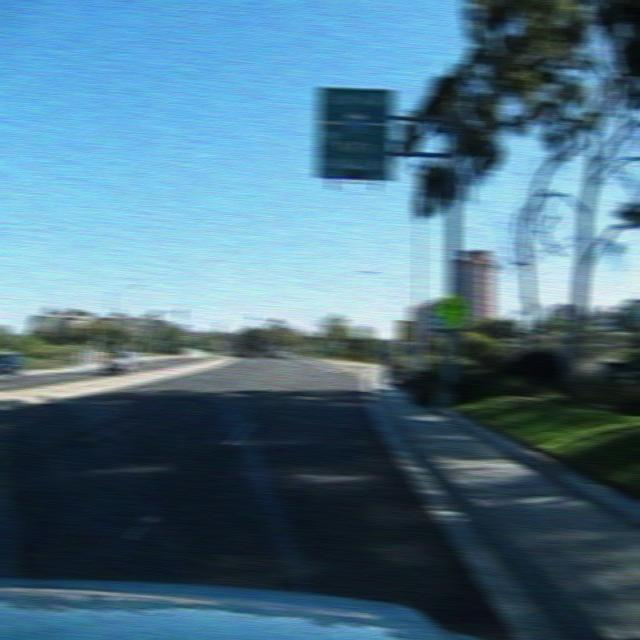pedestrianCrossing: (434, 289, 471, 332)
